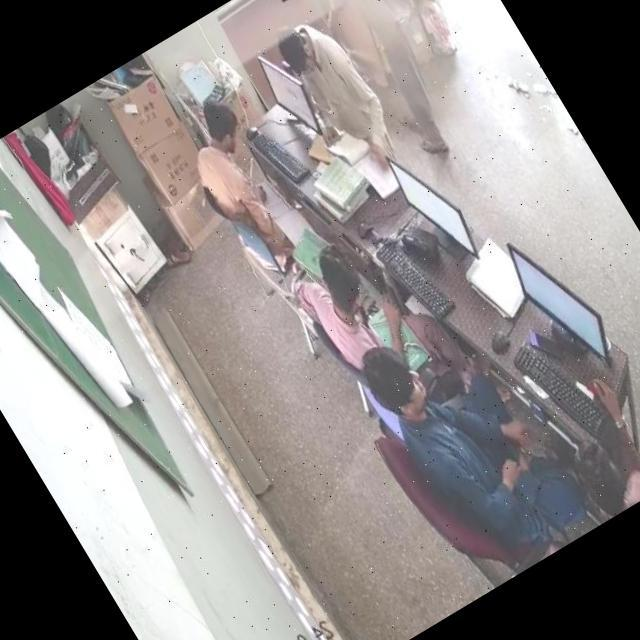person: (353, 297, 585, 567), (164, 80, 310, 264), (319, 0, 465, 164), (272, 3, 402, 168), (541, 391, 640, 525), (294, 247, 398, 367), (610, 322, 640, 478)
